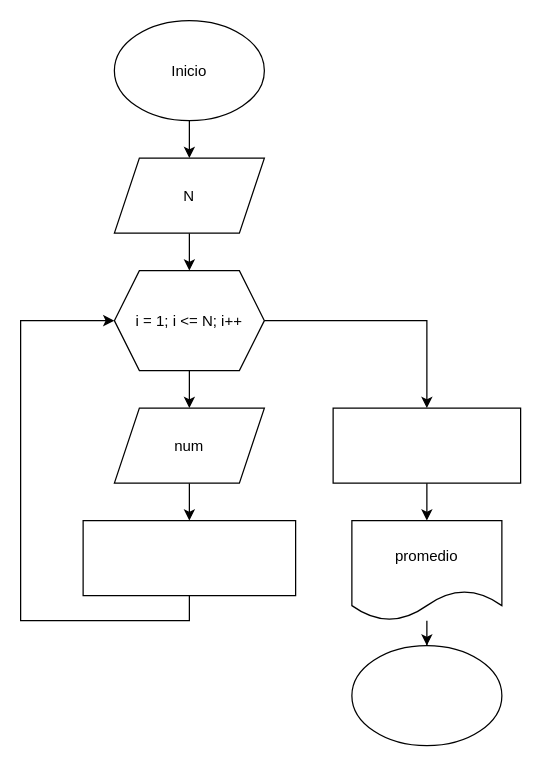
This 541x766 diagram has some shape labels left out. The box of each missing label's shape, as (x1, y1, x2, y2) in pixels:
Fin: (351, 644, 502, 746)
promedio = sumador / N: (332, 407, 521, 483)
sumador = sumador + num: (82, 519, 296, 596)
